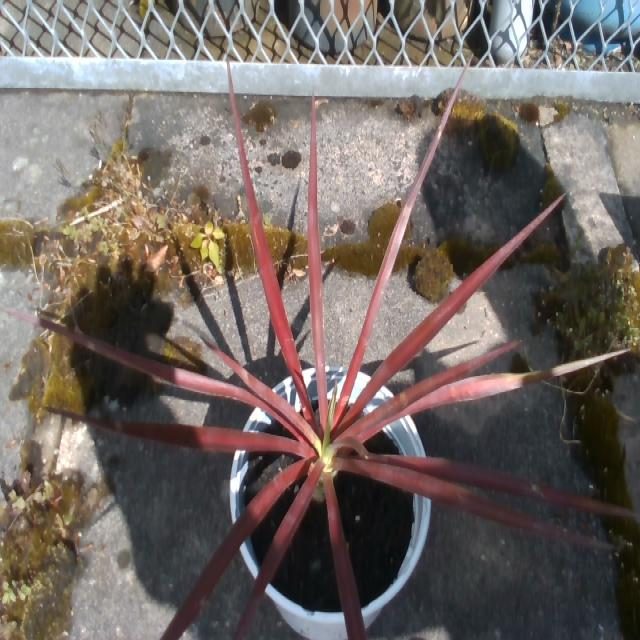Yucca-aloifolia: (348, 199, 561, 424), (347, 63, 469, 381), (0, 307, 302, 428), (228, 63, 314, 427), (161, 460, 309, 639), (335, 459, 612, 547), (379, 456, 639, 520), (233, 463, 322, 639), (349, 343, 518, 435), (410, 351, 625, 411), (212, 344, 310, 433), (86, 417, 304, 455), (326, 475, 365, 639), (309, 97, 326, 429)
